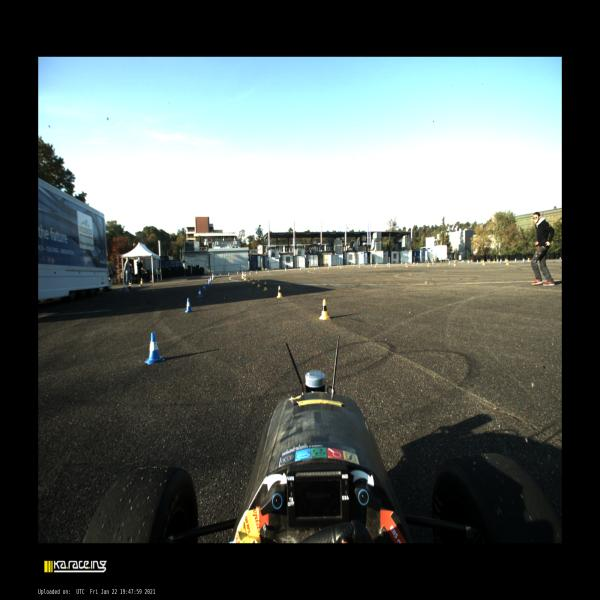blue_cone: (144, 332, 165, 364), (185, 298, 193, 313), (198, 288, 202, 298), (202, 283, 206, 291), (206, 280, 209, 286), (208, 278, 211, 284), (522, 258, 525, 263), (496, 258, 499, 262), (210, 277, 212, 282), (500, 258, 502, 263), (220, 273, 222, 277), (228, 272, 230, 276), (514, 258, 516, 262), (468, 260, 470, 264), (448, 260, 450, 264), (462, 260, 464, 263), (432, 262, 434, 265), (251, 270, 252, 274), (476, 260, 478, 262), (405, 262, 406, 266), (318, 266, 320, 268), (461, 260, 462, 263), (417, 262, 418, 265), (387, 263, 388, 266), (371, 263, 372, 266), (237, 271, 238, 274), (353, 264, 354, 267), (337, 265, 338, 268)
orange_cone: (211, 273, 215, 280), (242, 272, 244, 278)
yellow_cone: (319, 299, 331, 320), (276, 286, 282, 298), (263, 282, 268, 290), (257, 280, 261, 287), (252, 278, 255, 284), (506, 259, 509, 265), (482, 260, 485, 265), (453, 261, 456, 266), (248, 276, 250, 282), (504, 258, 507, 262), (427, 262, 430, 266), (244, 275, 246, 280), (242, 274, 244, 279), (527, 258, 530, 261), (406, 263, 408, 267), (314, 266, 316, 270), (493, 259, 495, 262), (488, 259, 490, 262), (482, 259, 484, 262), (340, 265, 342, 268), (285, 268, 287, 271), (327, 266, 329, 269), (256, 270, 257, 274), (480, 260, 482, 262), (389, 264, 390, 268), (375, 264, 376, 267), (359, 264, 360, 267), (268, 270, 269, 272)
